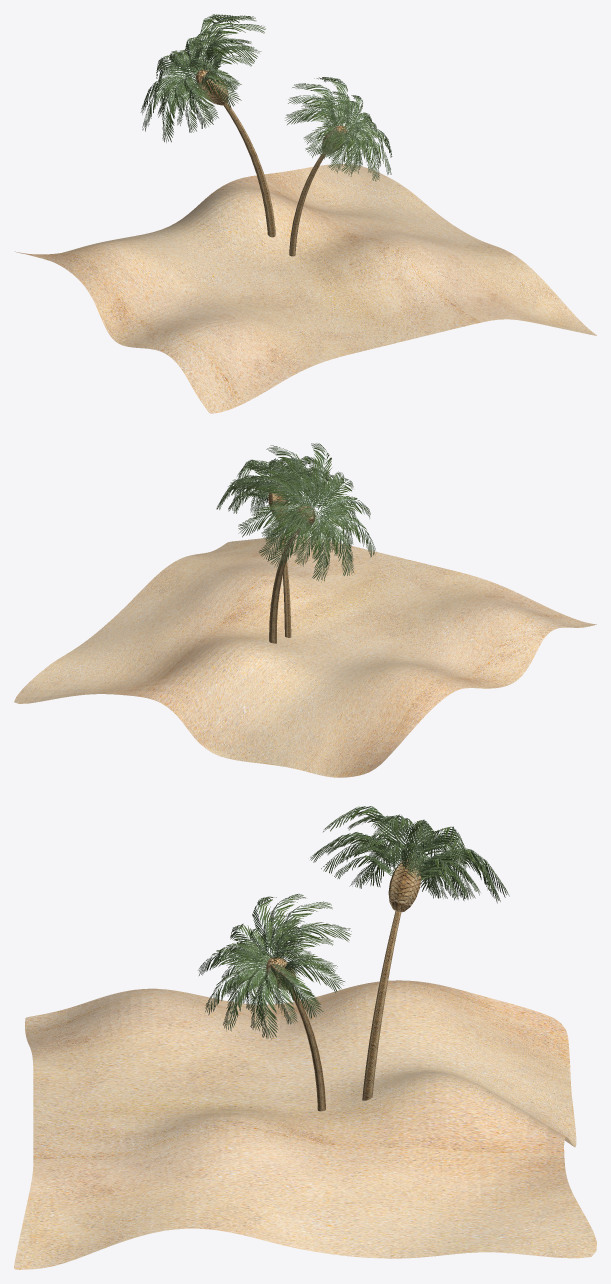
File: palm.fbx
3 renders of one model, top to bottom at view 1: azimuth 30°, elevation 25°; view 2: azimuth 150°, elevation 25°; view 3: azimuth 270°, elevation 25°, orthographic. The views are drawn at different scales.
Parts seen in each view (by area): view 1: Plane, Cylinder, Cylinder.001; view 2: Plane, Cylinder, Cylinder.001; view 3: Plane, Cylinder.001, Cylinder.
Part boxes in pixels (bbox=[...]): Plane: bbox=[15, 164, 596, 413]; Cylinder: bbox=[140, 14, 275, 237]; Cylinder.001: bbox=[285, 77, 392, 256]; Plane: bbox=[14, 536, 596, 777]; Cylinder: bbox=[228, 443, 375, 643]; Cylinder.001: bbox=[216, 456, 338, 637]; Plane: bbox=[14, 980, 596, 1269]; Cylinder.001: bbox=[198, 894, 351, 1111]; Cylinder: bbox=[310, 806, 509, 1100].
Bounding box in the file's own units: 3599 × 2292 × 3698.
3 materials, 3 textured.
